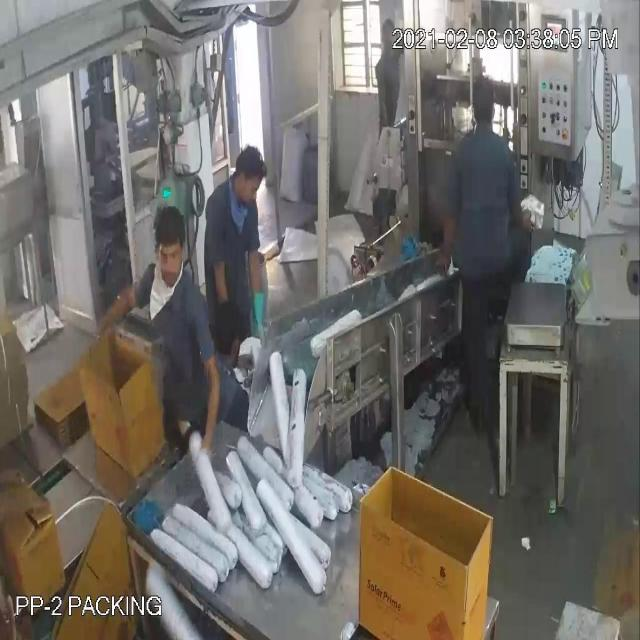No_Gloves: (36, 62, 260, 400)
